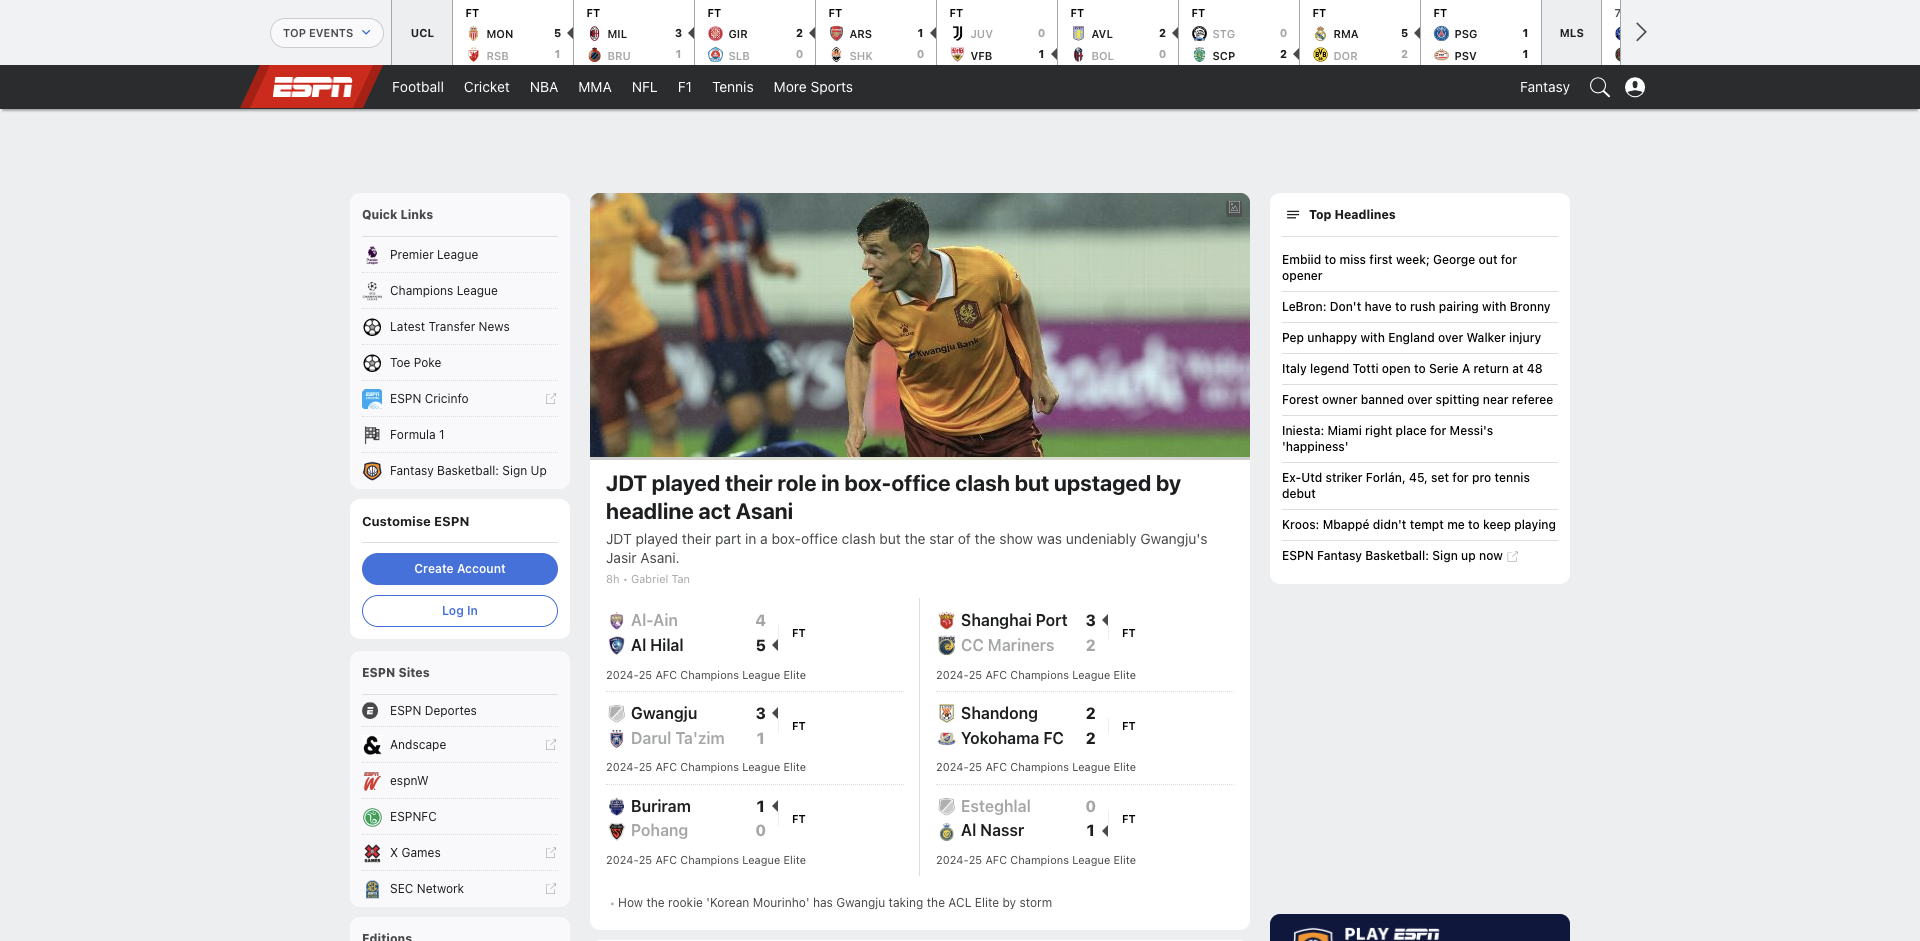button: (0, 0, 1920, 65), (362, 553, 558, 584), (362, 595, 558, 627), (269, 18, 384, 48), (1656, 67, 1691, 107), (1589, 65, 1610, 109)
dropdown: (260, 0, 392, 65), (269, 18, 384, 48)
icon: (362, 281, 382, 301), (362, 388, 382, 409), (362, 461, 382, 482), (362, 771, 382, 792), (362, 879, 382, 899), (362, 245, 382, 265), (362, 317, 382, 337), (362, 353, 382, 372), (362, 425, 382, 445), (362, 735, 382, 755), (362, 807, 382, 827), (362, 843, 382, 863), (362, 703, 382, 719)
input: (1656, 67, 1703, 107)
link: (590, 194, 1250, 598), (920, 598, 1250, 668), (920, 691, 1250, 761), (590, 598, 920, 668), (590, 691, 920, 761), (920, 784, 1250, 853), (590, 784, 920, 853), (618, 888, 1229, 919), (1282, 245, 1558, 292), (1282, 417, 1558, 463), (1282, 463, 1558, 510), (1282, 292, 1558, 323), (1282, 385, 1558, 417), (1282, 510, 1558, 542), (1282, 323, 1558, 354), (1282, 354, 1558, 385), (1282, 542, 1558, 572), (350, 236, 571, 273), (350, 309, 571, 346), (350, 417, 571, 453), (350, 727, 571, 763), (350, 834, 571, 871), (350, 273, 571, 309), (350, 346, 571, 381), (350, 381, 571, 417), (350, 453, 571, 489), (350, 763, 571, 799), (350, 799, 571, 834), (350, 871, 571, 907), (453, 0, 573, 65), (574, 0, 694, 65), (696, 0, 816, 65), (817, 0, 937, 65), (938, 0, 1058, 65), (1058, 0, 1178, 65), (1179, 0, 1299, 65), (1300, 0, 1420, 65), (1422, 0, 1542, 65), (1603, 0, 1723, 65), (1783, 0, 1903, 65), (350, 695, 571, 727), (273, 65, 353, 109), (774, 65, 853, 108), (392, 65, 443, 108), (1520, 65, 1570, 108), (464, 65, 509, 108), (711, 65, 754, 108), (578, 65, 612, 108), (530, 65, 558, 108), (632, 65, 658, 108), (1904, 0, 1920, 65), (590, 940, 1194, 941), (677, 65, 692, 108)
